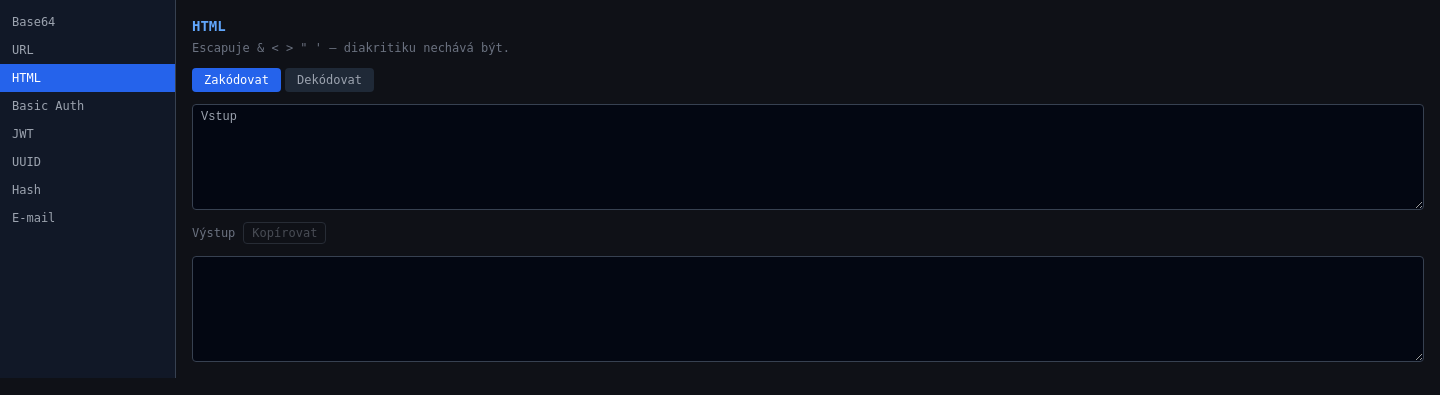
Test: ToolsView › HTML nástroj kóduje vstup
Step 1. Type "<b>&x" into the text box with placeholder "Vstup" → (808, 157), box [192,104,1424,210]
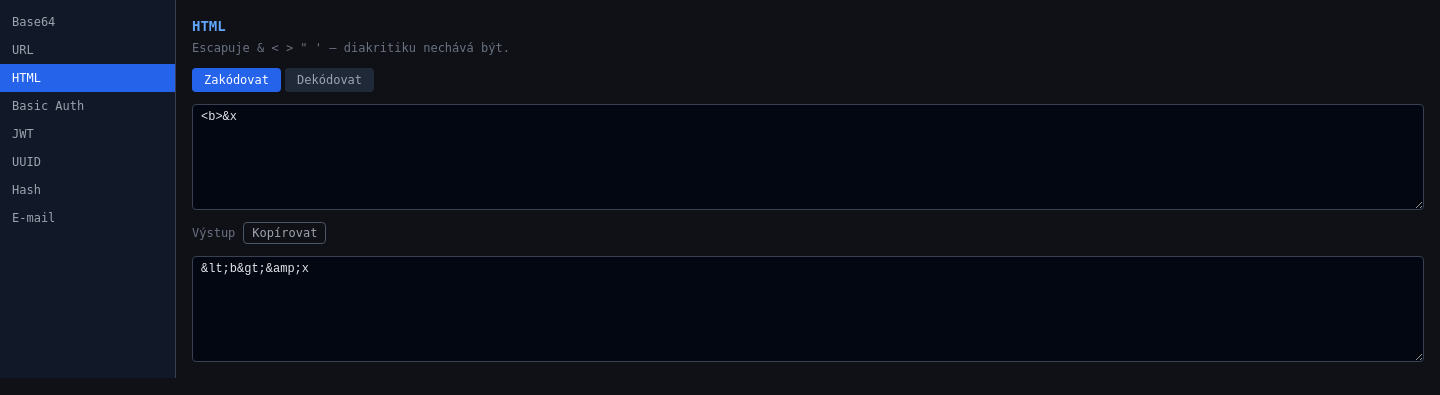
Result: the 2nd text box holds "&lt;b&gt;&amp;x" at [192,256,1424,362]
